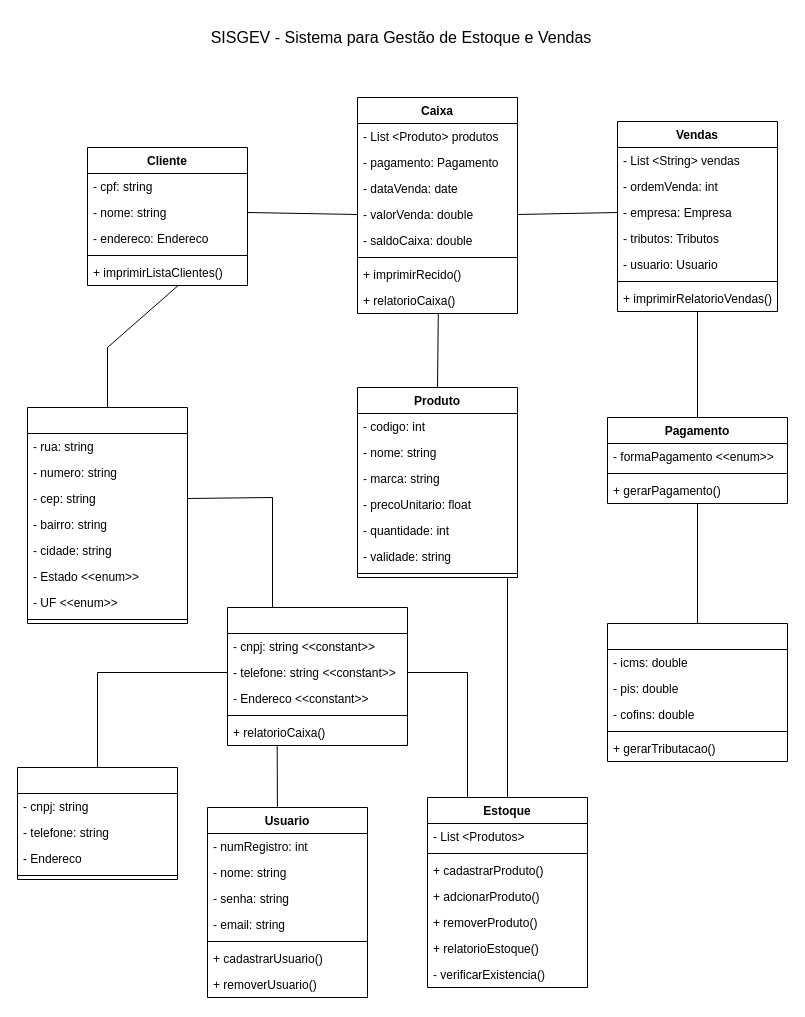
The diagram is 805 pixels wide and 1017 high, and some of its shapes have lost their labels. Here are the shapes that lost their labels. From the top down, the box of each, then its label:
(26, 406, 188, 624): Endereco
(226, 606, 408, 746): Empresa
(606, 622, 788, 762): Tributos
(16, 766, 178, 880): Fornecedor
